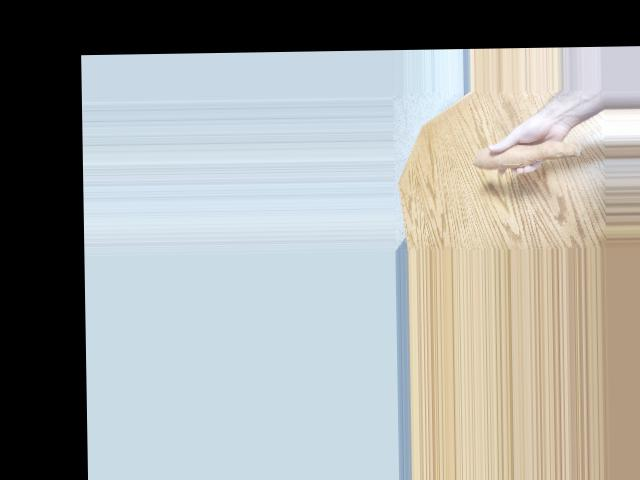sweet_potato: (466, 134, 583, 169)
